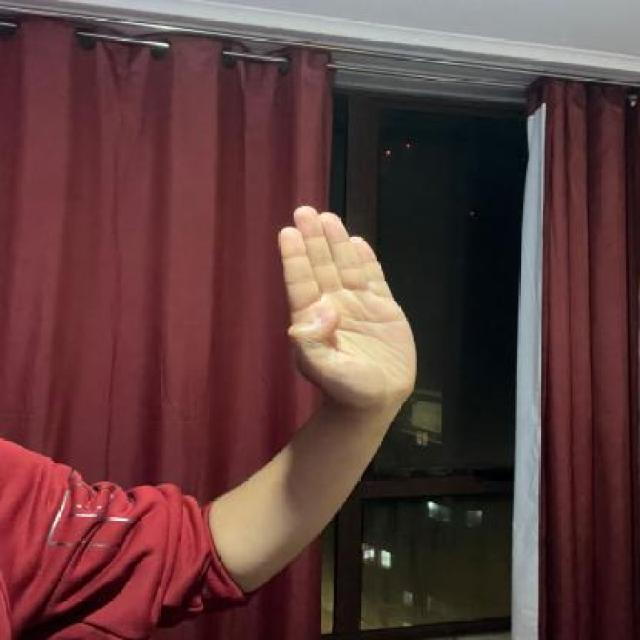B: (266, 197, 422, 412)
